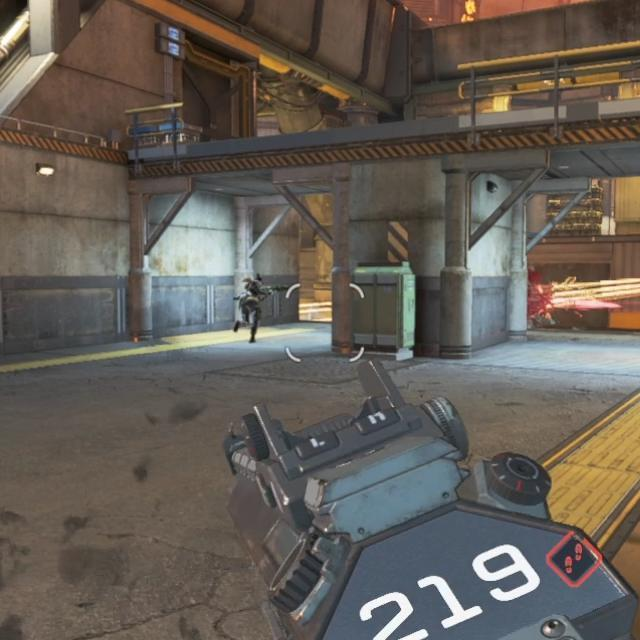avatar: (231, 270, 275, 343)
